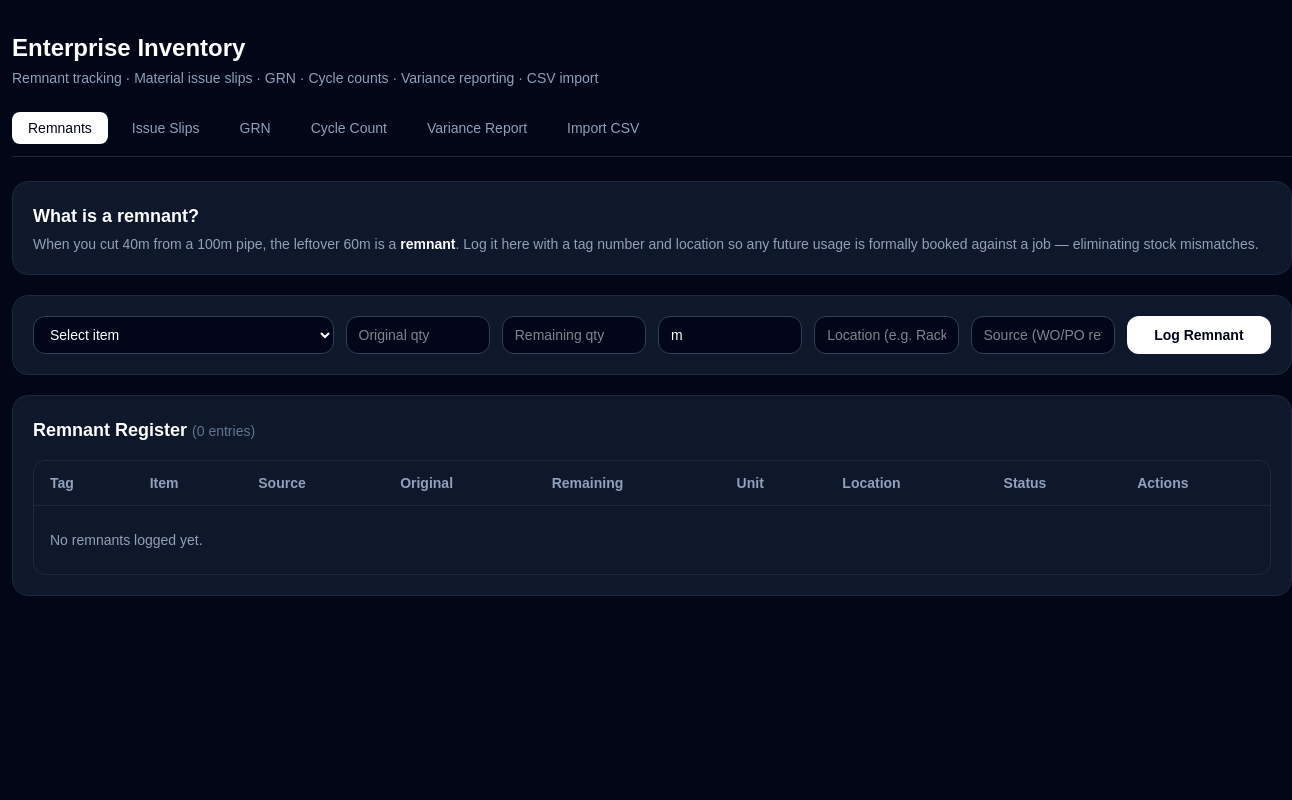
EnterpriseInventory CSV import — a refusal is not a success › shows a 403 as refused, with the server's sentence, and no counts
Click the button "Import CSV" at {"x": 603, "y": 128}, box [551,112,655,144]
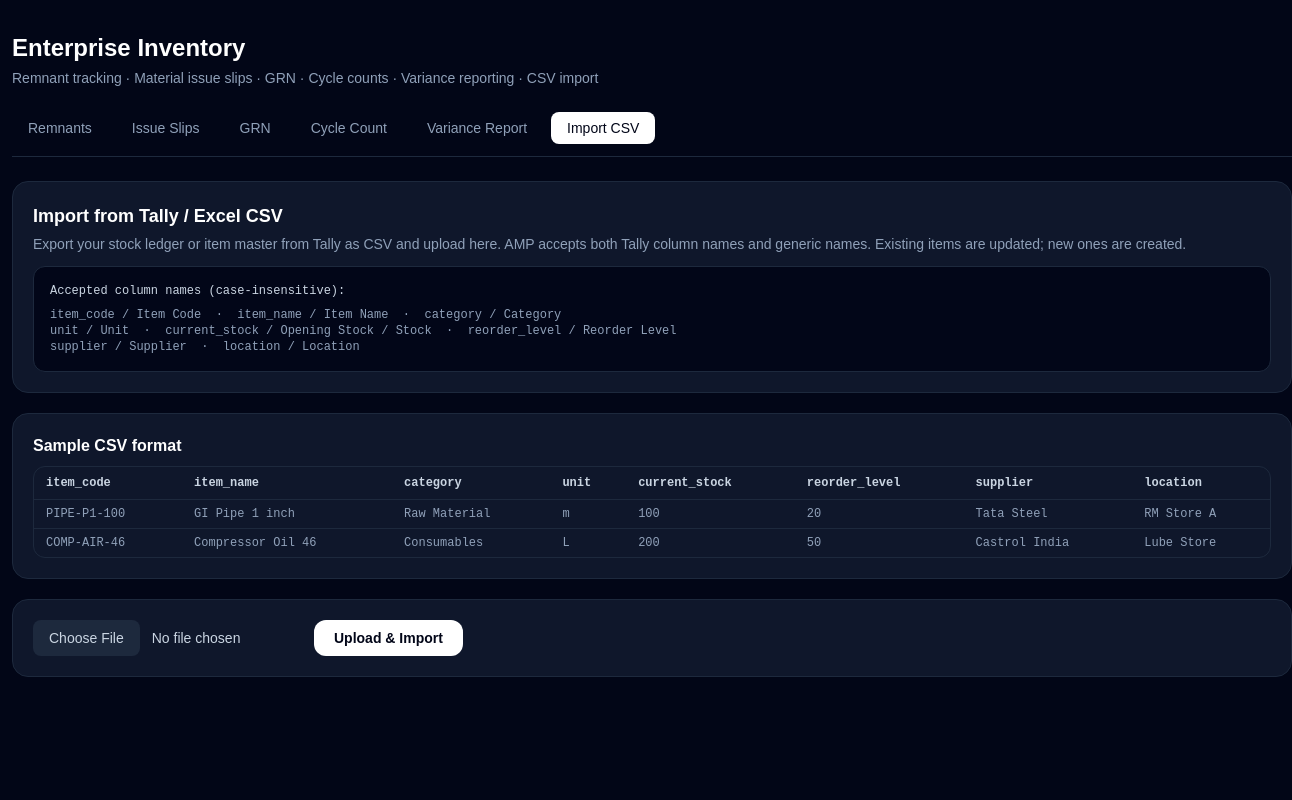
Submit the form, box [12,599,1291,677]
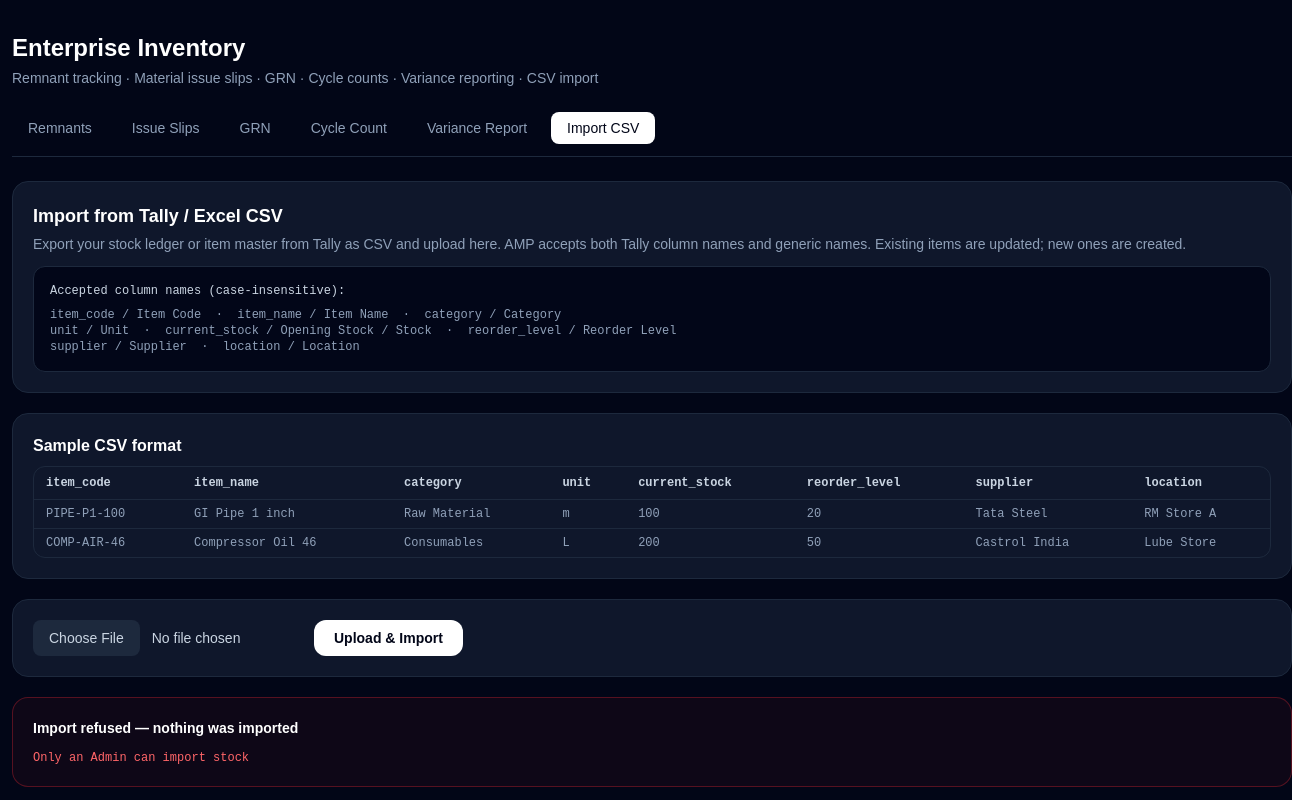
Expected: the message "Import refused — nothing was imported Only an Admin can import stock" is shown, [12,697,1291,787]
Expected: the message shows "Import refused — nothing was imported", [33,720,298,736]
Expected: the message shows "Only an Admin can import stock", [33,751,249,765]
